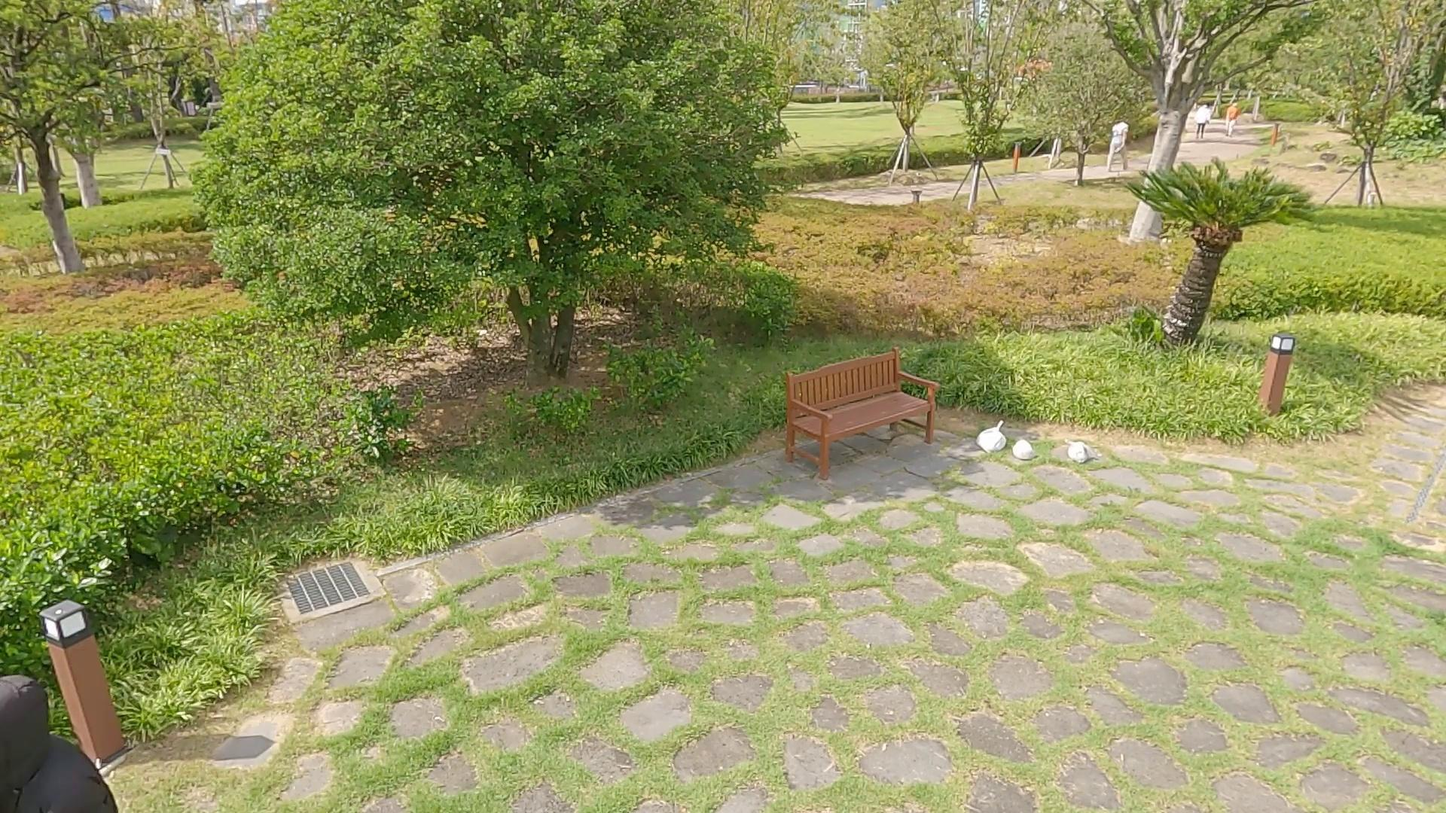person: (1104, 114, 1130, 177), (1220, 94, 1244, 137), (1195, 102, 1211, 146)
trash: (974, 416, 1010, 453), (1066, 438, 1104, 467), (1009, 435, 1043, 464)
